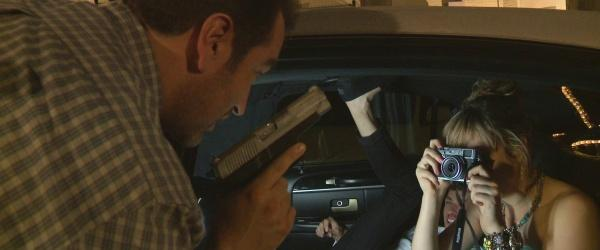Gun: (210, 86, 334, 197)
